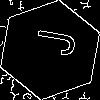J: (25, 25, 77, 58)
